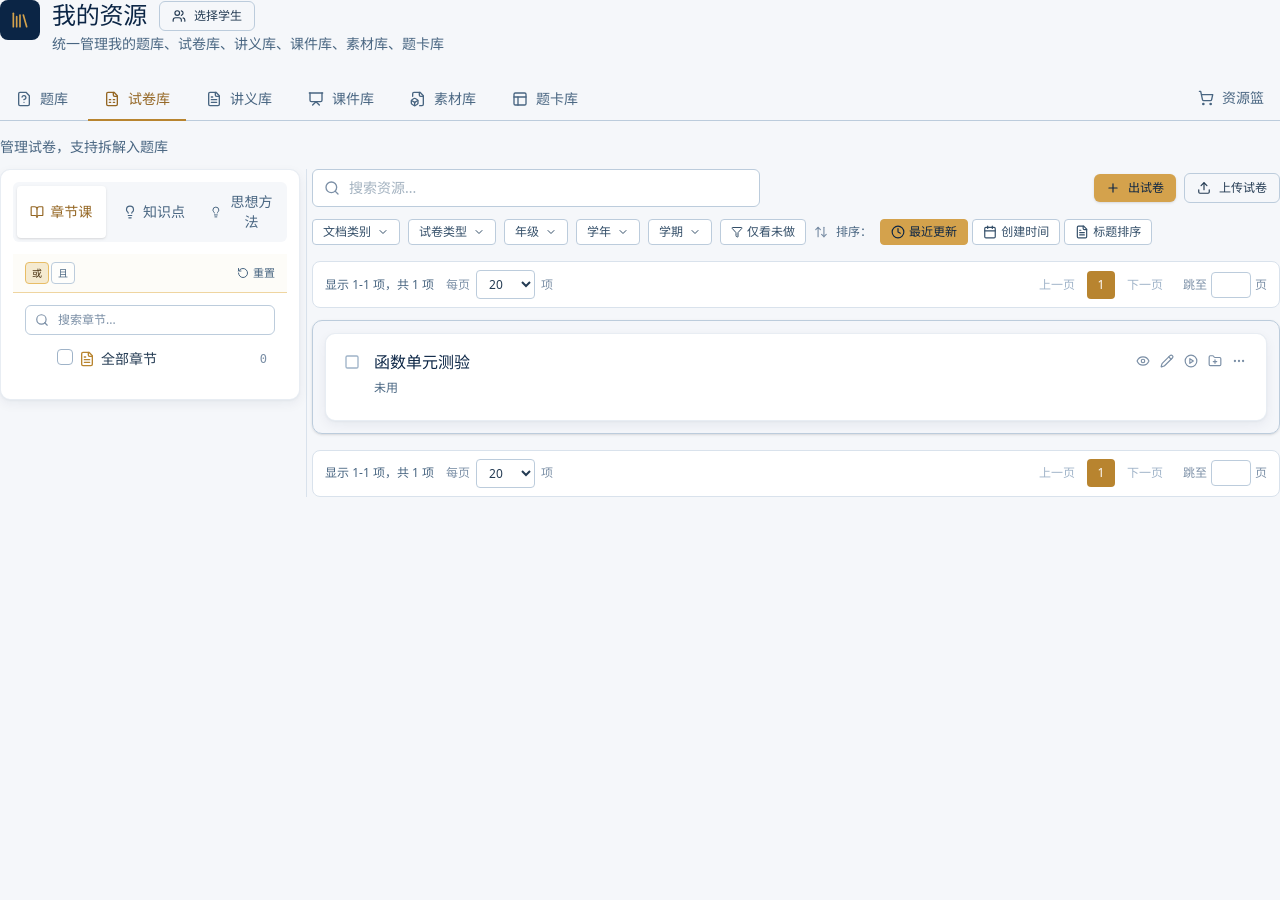
MyResourcesPage batch actions › shows question counts, not student-question attempts, when selecting an entire class
Check: the text "函数单元测验" is shown, box [374,350,470,376]
Step 1. Click the button "选择学生" → coordinates (207, 16), box [159,1,255,31]
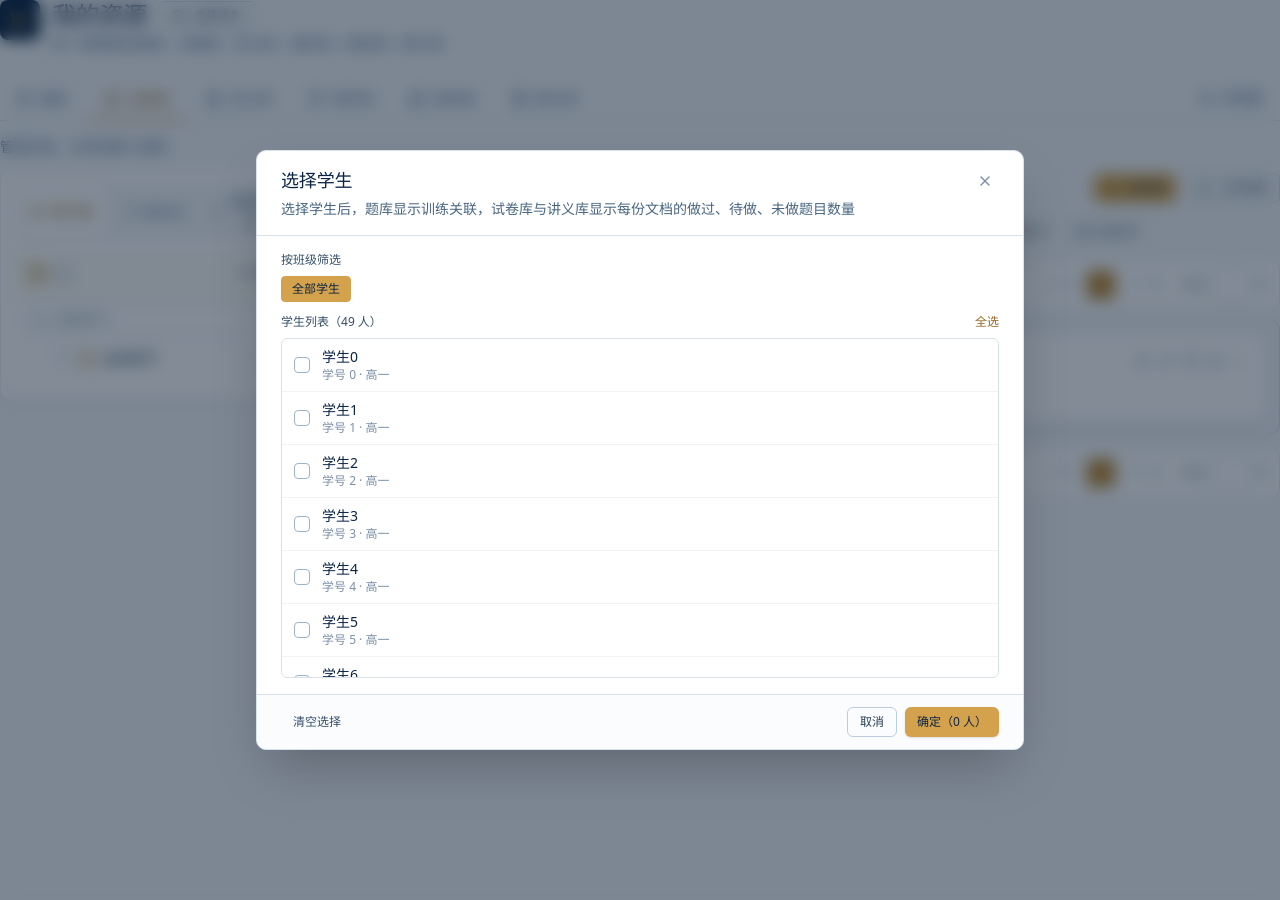
Step 2. Click the button "全选" → coordinates (987, 322), box [975,314,999,330]
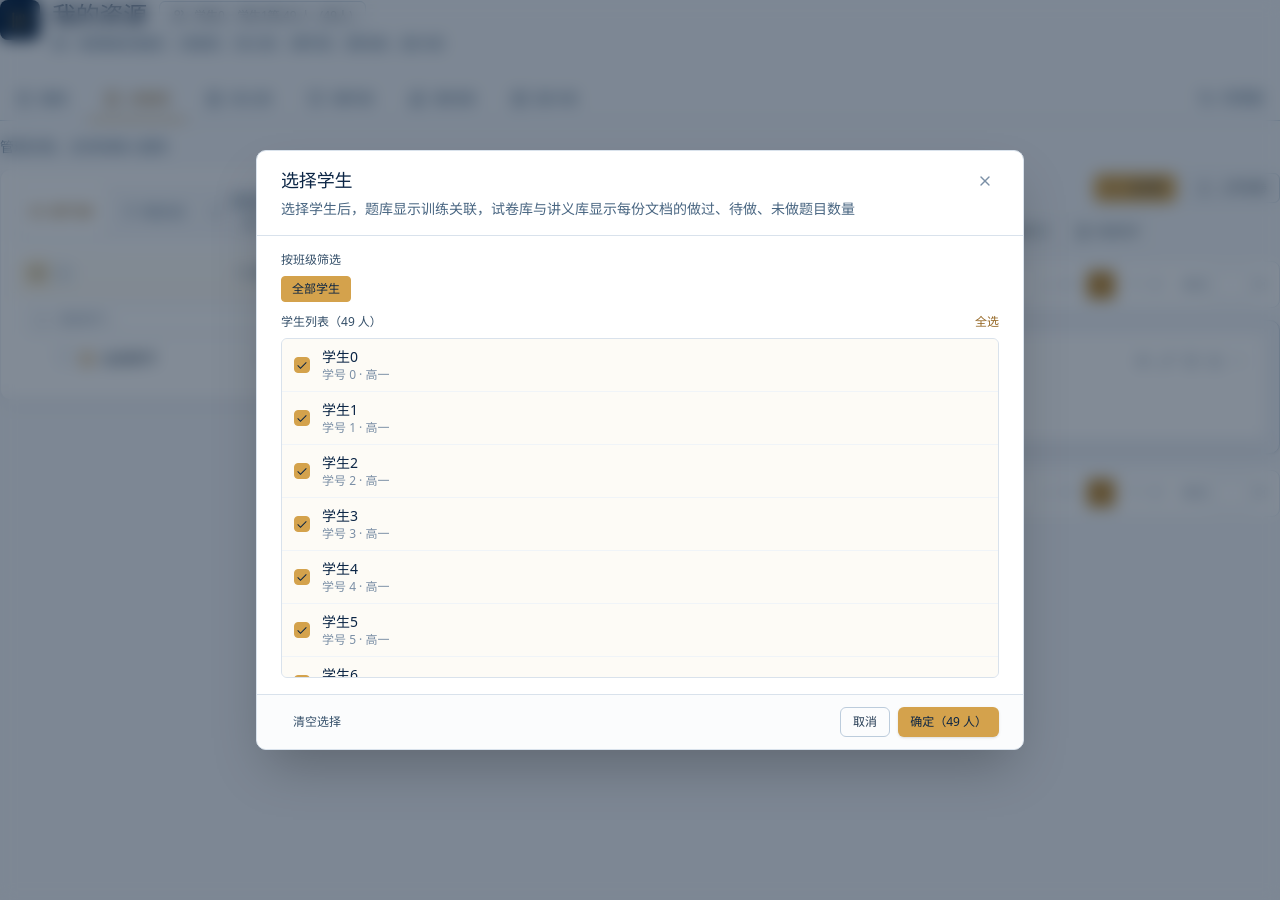
Step 3. Click the button "确定（49 人）" → coordinates (949, 722), box [898,707,999,737]
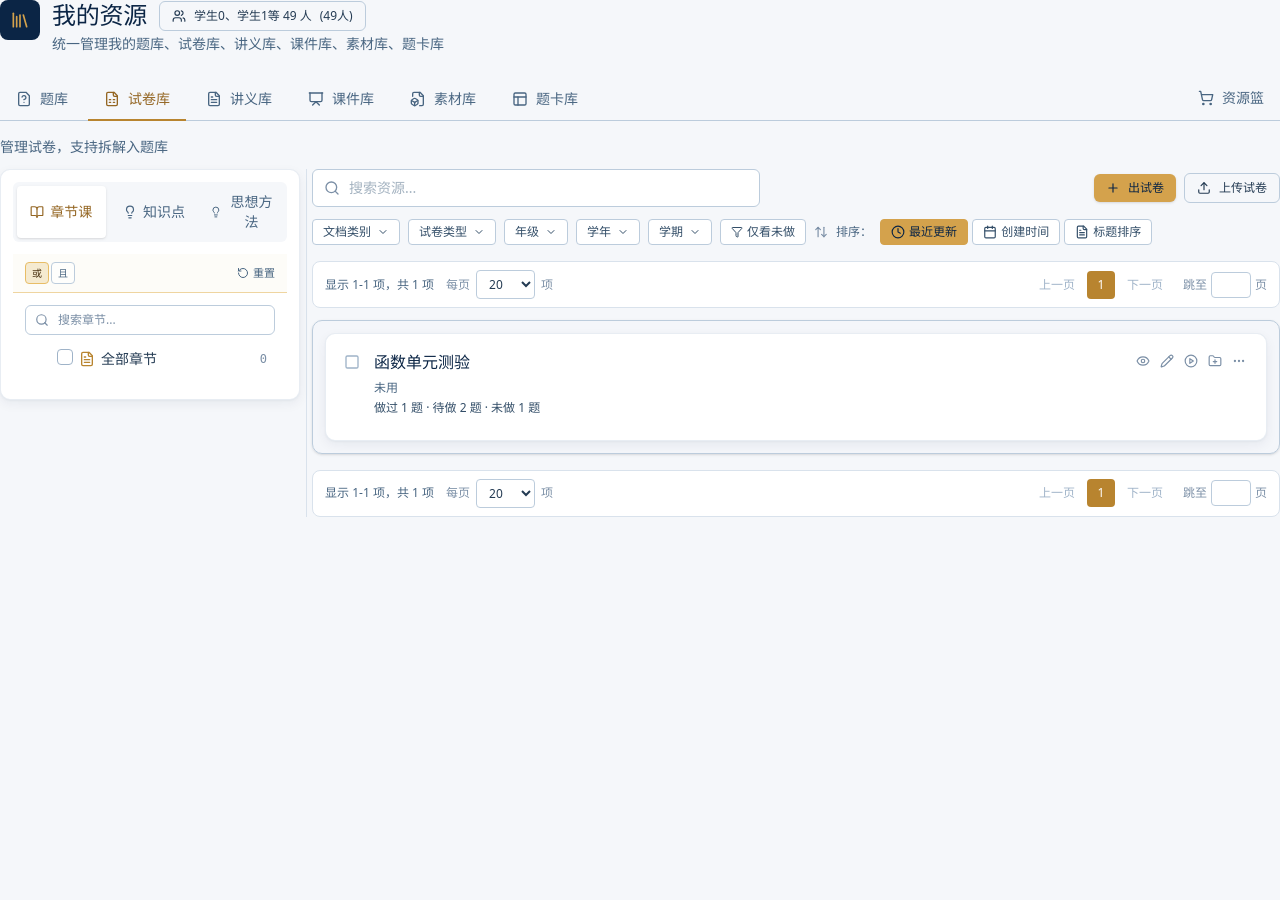
Check: the text with test id "resource-card-student-progress" reads "做过 1 题 · 待做 2 题 · 未做 1 题", box [374,399,540,416]
